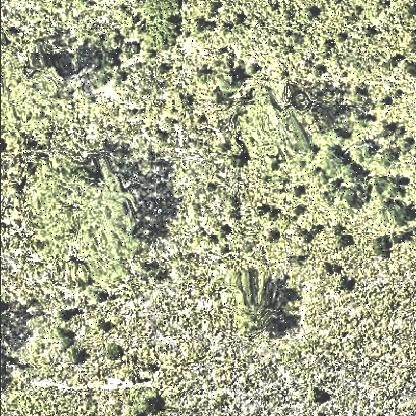tree-top: (21, 156, 141, 300), (2, 50, 66, 144), (218, 264, 284, 344), (241, 86, 313, 158)
